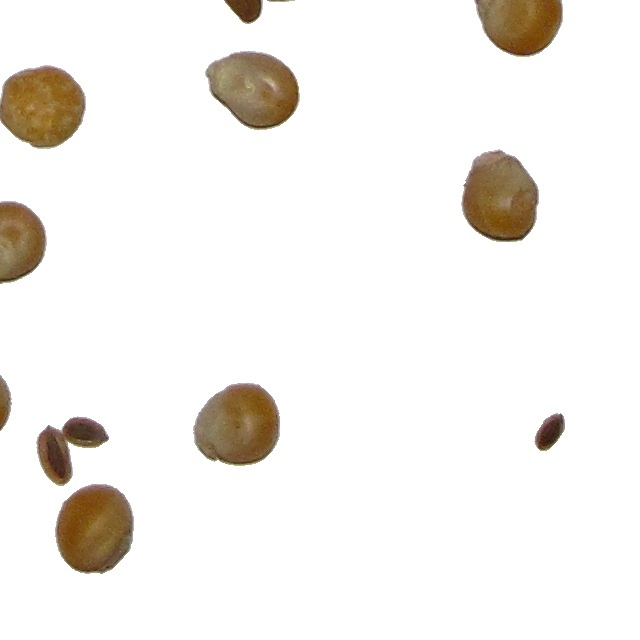buckwheat: (35, 422, 69, 487), (533, 412, 566, 452)
mais: (204, 50, 301, 131), (460, 148, 540, 243), (192, 382, 281, 467), (54, 483, 135, 575)
